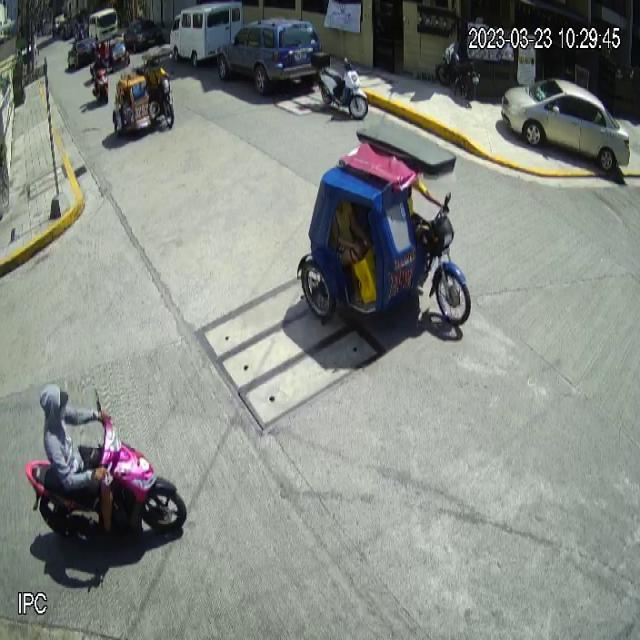Car: (501, 77, 631, 173), (216, 16, 323, 98)
Motorcycle: (311, 51, 368, 120)
Tricycle: (296, 116, 472, 328), (112, 46, 175, 136)
Van: (169, 0, 243, 68)
